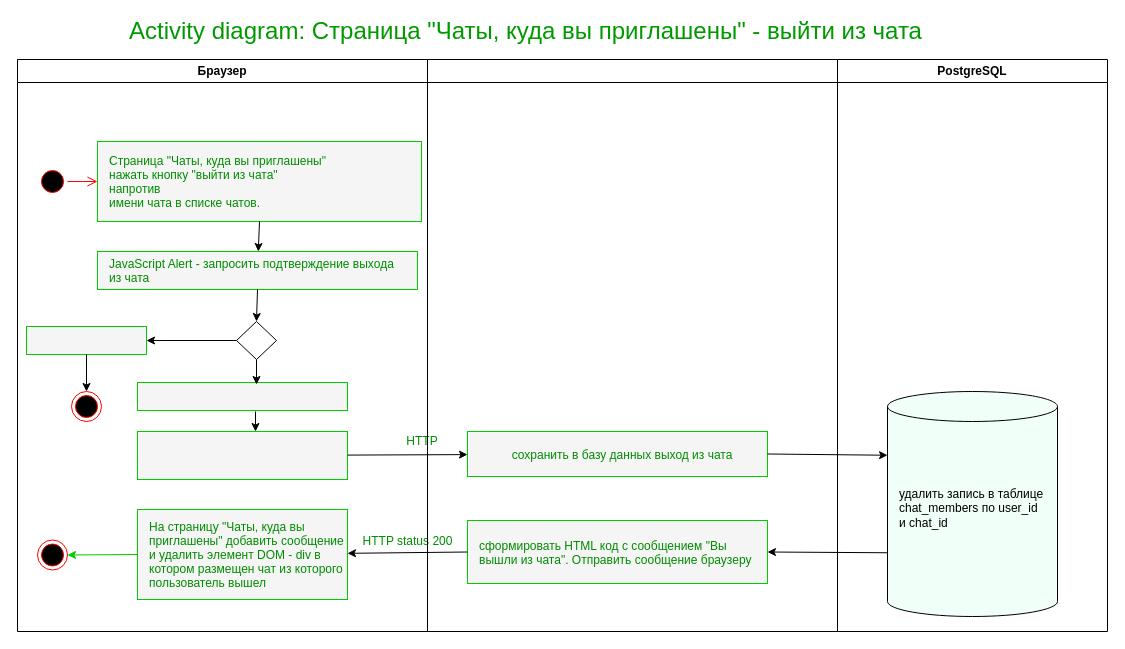
The diagram is 1125 pixels wide and 649 high, and some of its shapes have lost their labels. The shapes that lost their labels are listed below. From the top down, each one's box as (x1, y1, x2, y2) in pixels, then its label:
(26, 326, 146, 354): отказ от выхода
(426, 58, 838, 632): Tomcat
(136, 382, 348, 410): подтверждение выхода
(136, 430, 348, 480): отправить JQuery запрос с параметрами user_id и chat_id
